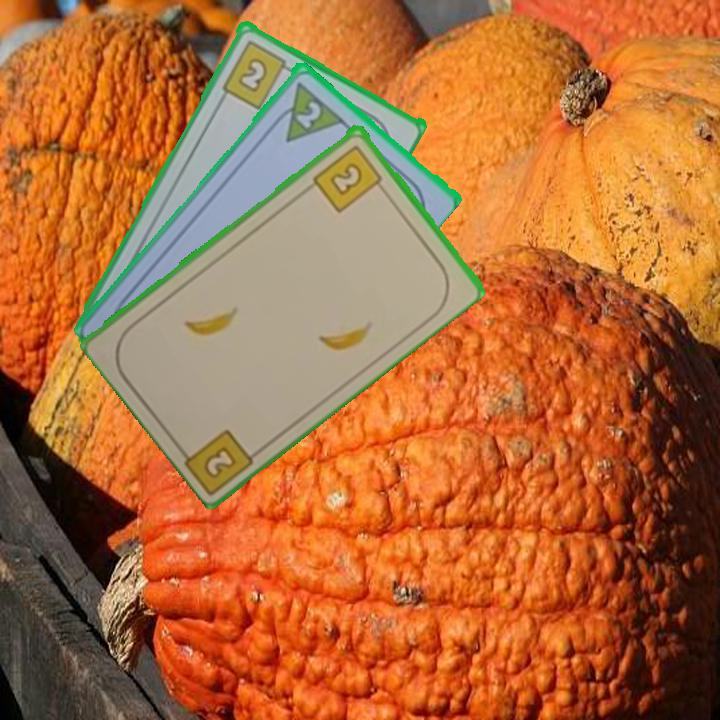2b: (218, 36, 297, 111), (309, 141, 387, 215), (199, 442, 240, 482)
2p: (291, 96, 325, 131)
